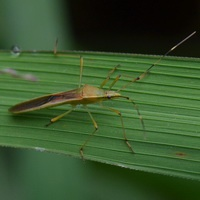insect: (0, 51, 199, 173)
